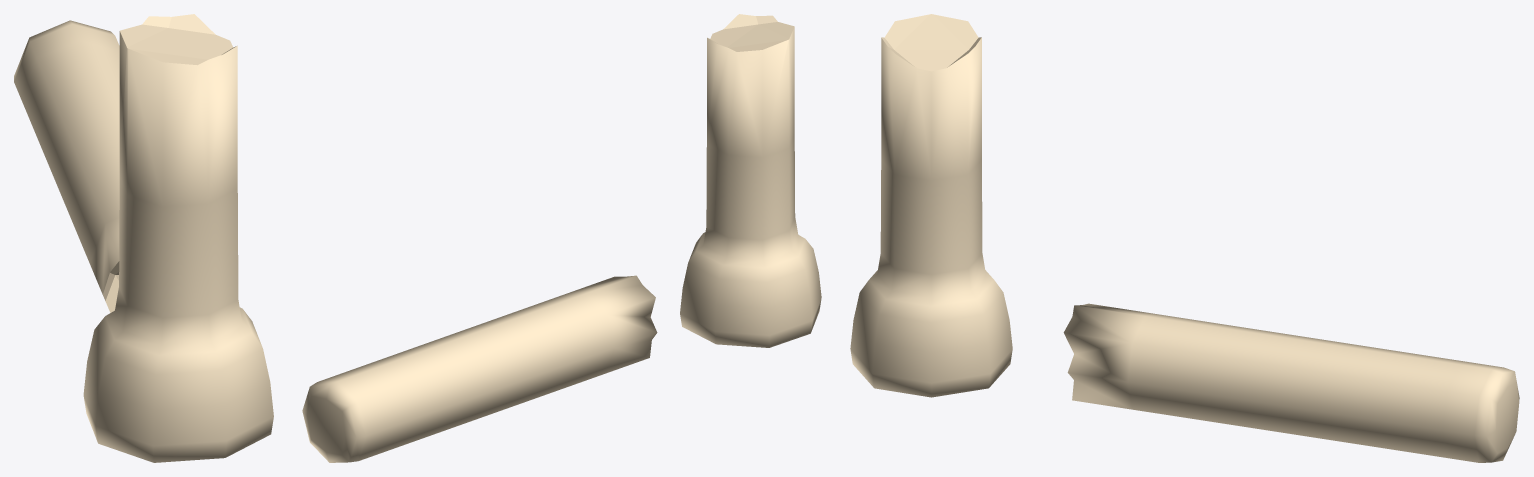
The model's file is columnN06.fbx.
3 views of the same model, side by side, from view 1: azimuth 30°, elevation 25°; view 2: azimuth 150°, elevation 25°; view 3: azimuth 270°, elevation 25° (orthographic). The views are drawn at different scales.
Parts seen in each view (by area): view 1: columnN06, columnN06b; view 2: columnN06, columnN06b; view 3: columnN06b, columnN06.
Part boxes in pixels (left/top/right/bottom): columnN06: left=83, top=14, right=273, bottom=462; columnN06b: left=14, top=20, right=119, bottom=312; columnN06: left=680, top=14, right=821, bottom=347; columnN06b: left=302, top=275, right=657, bottom=462; columnN06b: left=1063, top=303, right=1519, bottom=462; columnN06: left=850, top=14, right=1012, bottom=397.
Size of the model in its own units: 535 by 565 by 1022.
